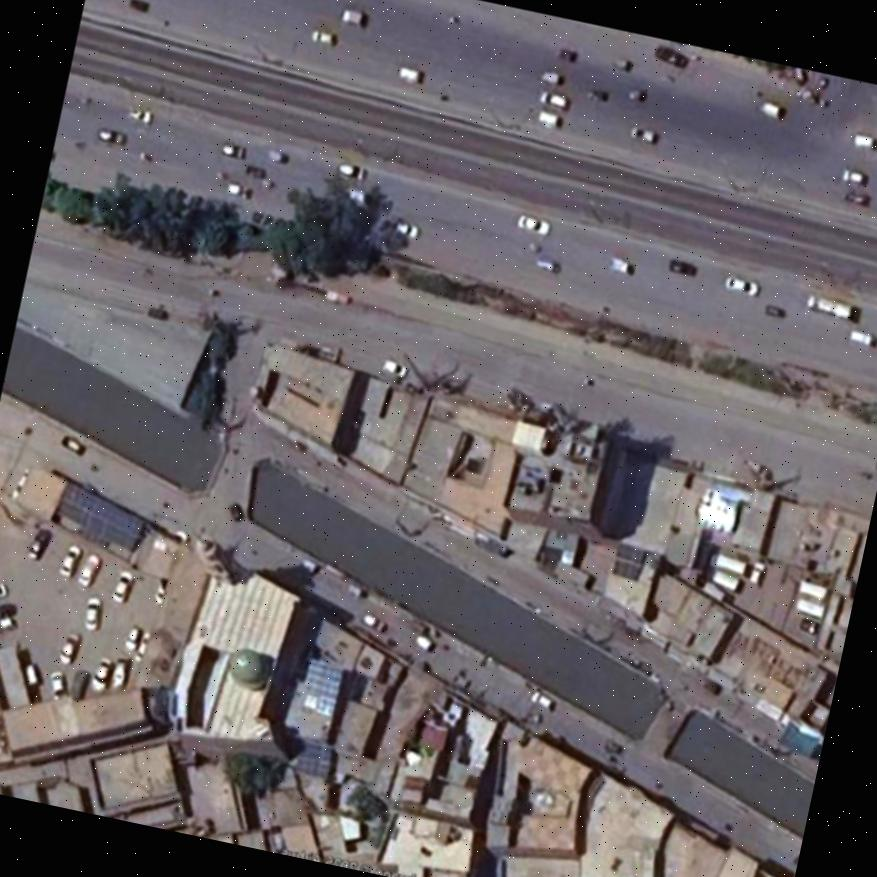Solarpanel: (54, 479, 143, 550), (301, 657, 340, 716), (293, 738, 331, 775), (611, 543, 644, 576)
